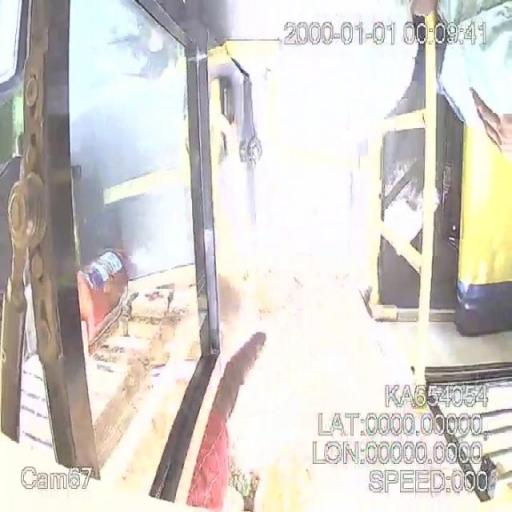persona: (185, 330, 267, 510)
